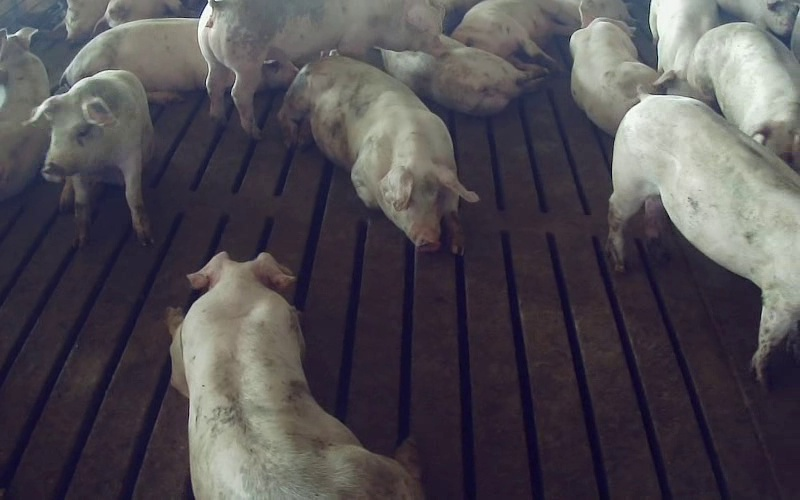pig: (167, 252, 421, 499), (608, 95, 799, 381), (279, 56, 478, 253), (198, 0, 443, 137), (25, 71, 153, 245), (687, 23, 799, 171), (381, 35, 546, 115), (61, 18, 207, 102), (570, 18, 658, 134), (452, 0, 580, 66), (0, 28, 49, 200), (649, 0, 718, 97)
